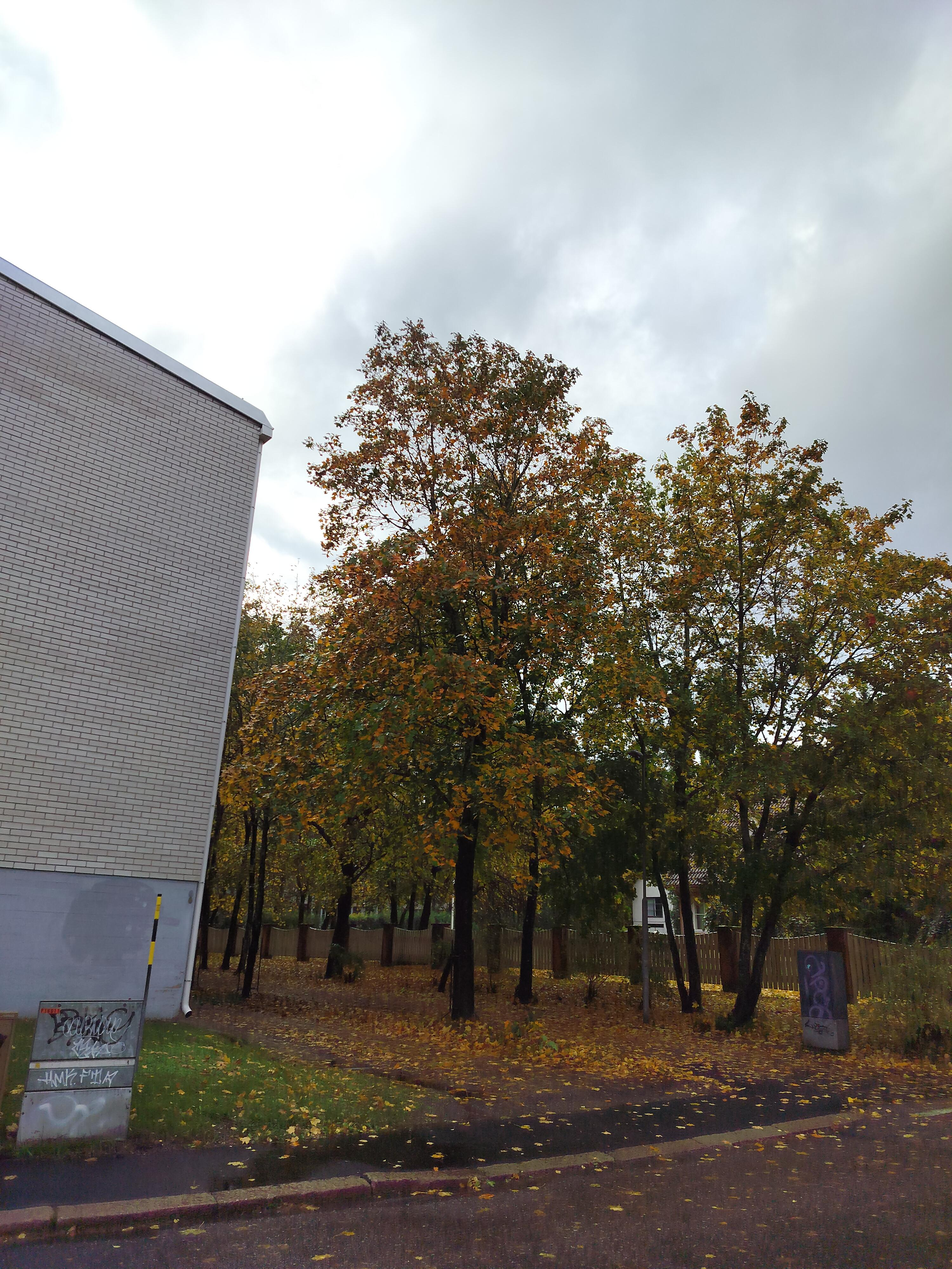Maple: (276, 315, 661, 1006), (599, 384, 899, 1031), (639, 1003, 659, 1003)
